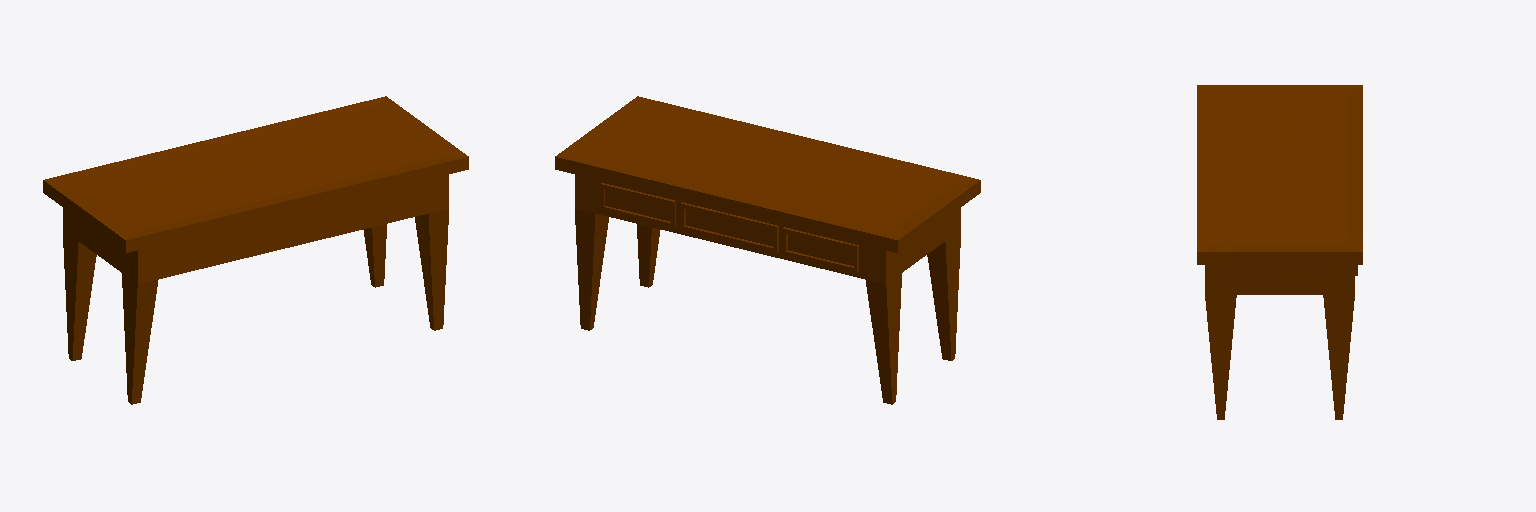
3 views of the same model, side by side, from view 1: azimuth 30°, elevation 25°; view 2: azimuth 150°, elevation 25°; view 3: azimuth 270°, elevation 25° (orthographic).
Bounding box in the file's own units: 528 × 258 × 220.
1 materials, 1 textured.